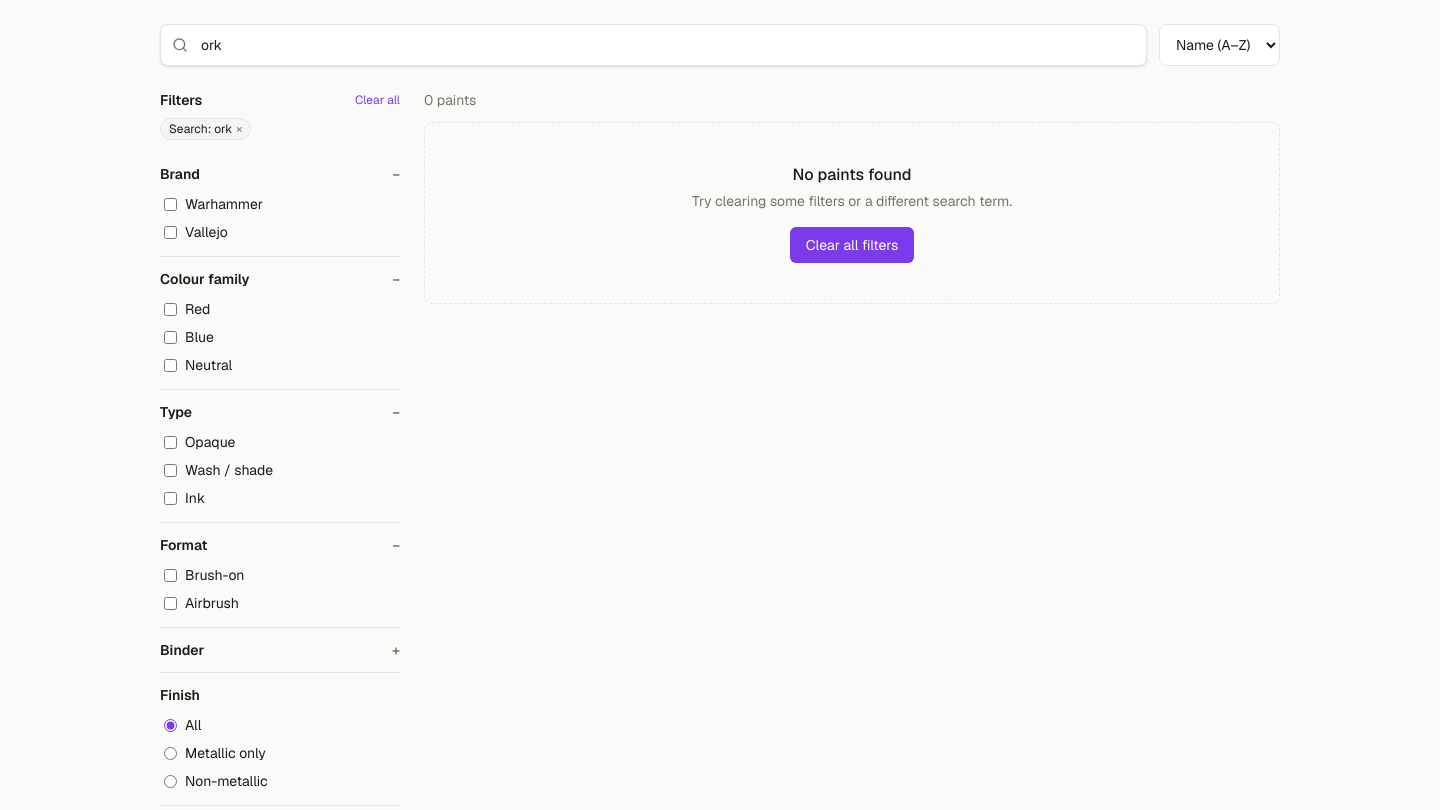
Scenario: the active-filter chips › removing the search chip empties the box as well as the param
This screenshot has width=1440, height=810.
Expected: the dropdown named "Search paints" holds "ork", [160,24,1147,66]
Click the button with aria-label "Remove filter: Search: ork". click: click(206, 129)
box: [160,118,251,140]
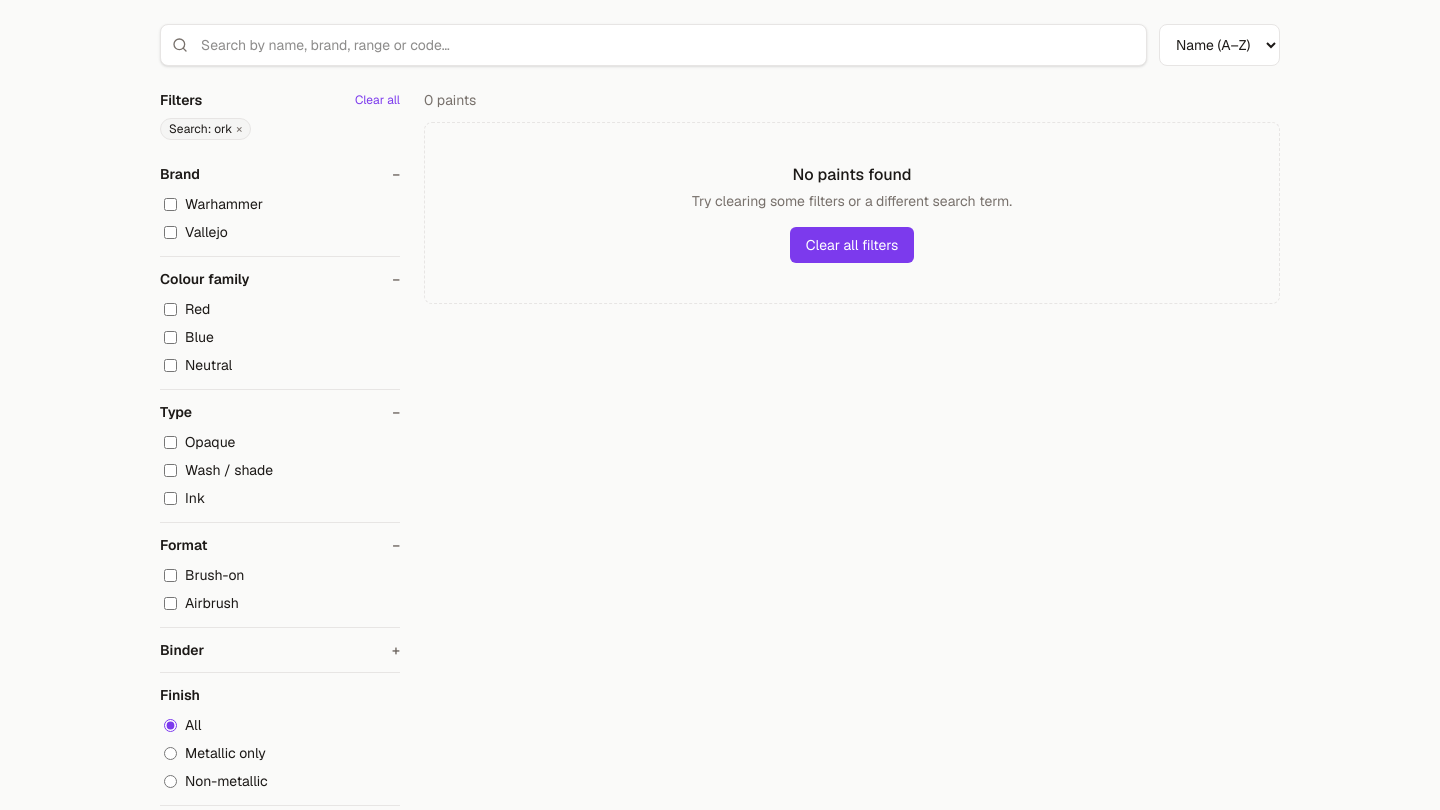
Expected: the dropdown named "Search paints" is empty, [160,24,1147,66]
